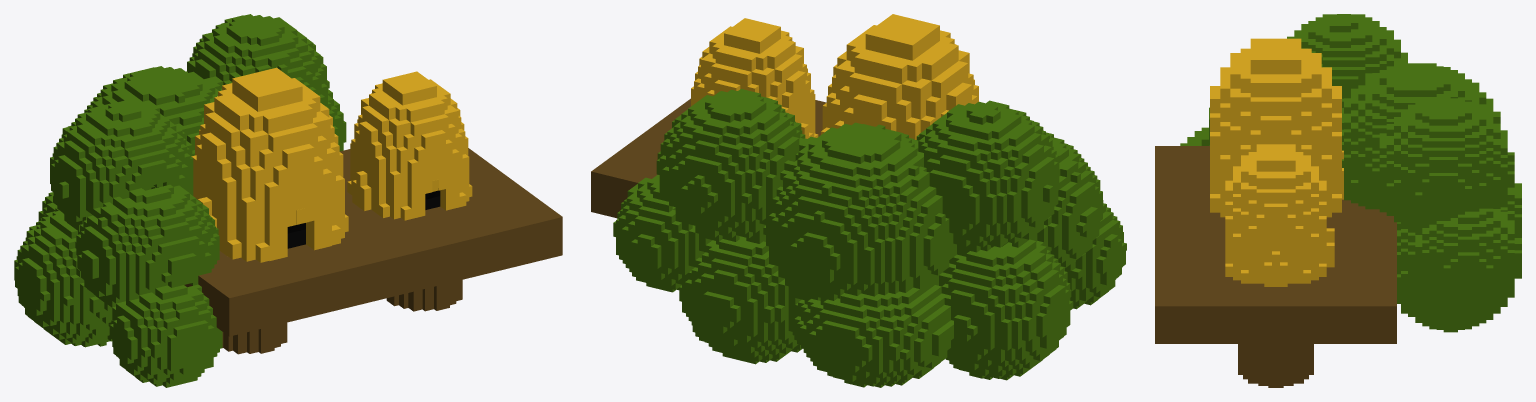
The model's file is Медовая пасека.fbx.
3 renders of one model, left to right at view 1: azimuth 30°, elevation 25°; view 2: azimuth 150°, elevation 25°; view 3: azimuth 270°, elevation 25°, orthographic. The views are drawn at different scales.
Visible parts, largest first — view 1: Cylinder.001; view 2: Cylinder.001; view 3: Cylinder.001.
Part boxes in pixels (x1=…): Cylinder.001: x1=14, y1=14, x2=562, y2=387; Cylinder.001: x1=591, y1=14, x2=1126, y2=387; Cylinder.001: x1=1155, y1=14, x2=1521, y2=387.
Bounding box in the file's own units: 560 × 318 × 424.
